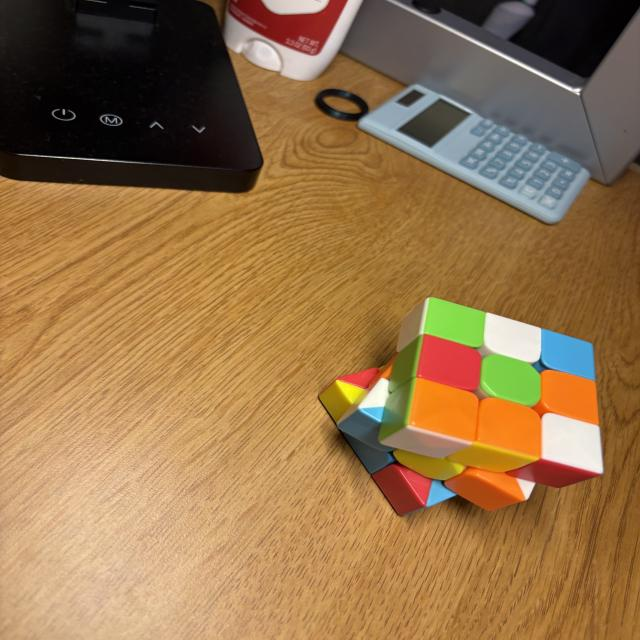Rubiks Cube: (318, 296, 603, 518)
